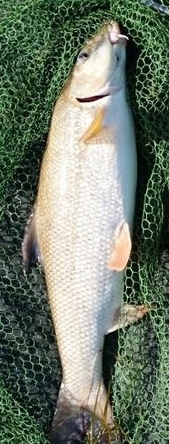Barbus barbus: (20, 20, 149, 444)
